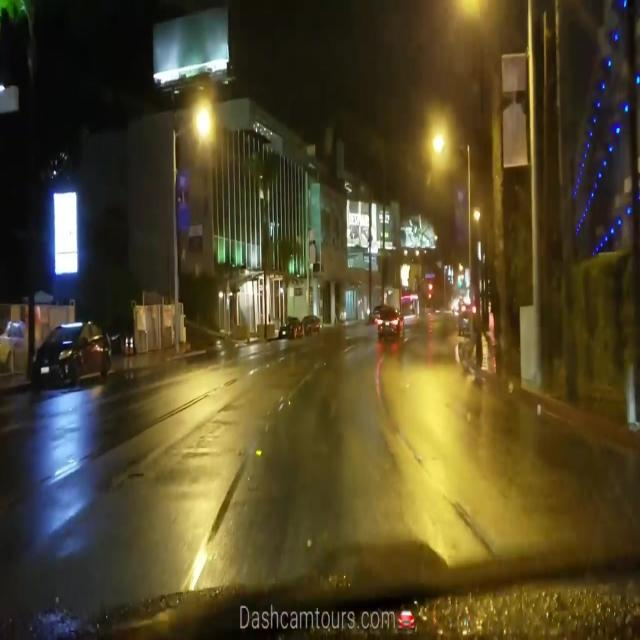Car: (33, 323, 110, 381), (375, 307, 401, 333)
